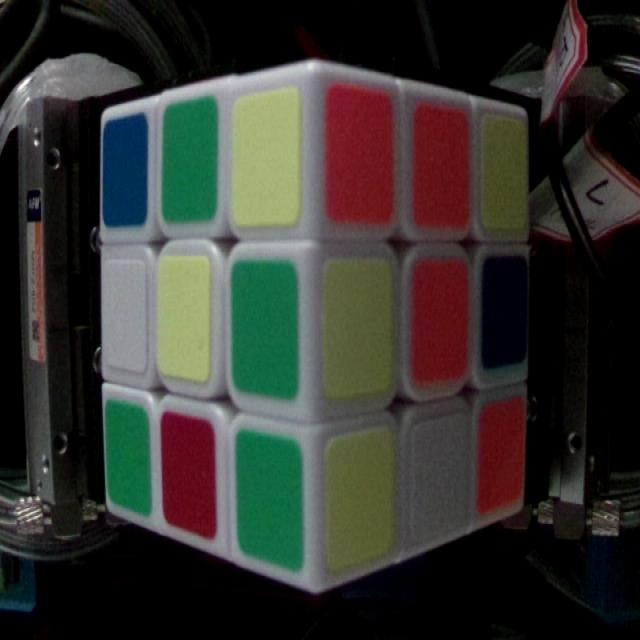b: (104, 120, 147, 226), (482, 257, 527, 358)
g: (232, 265, 300, 395), (238, 435, 302, 565), (163, 99, 216, 221), (106, 401, 152, 507)
o: (327, 86, 392, 221), (411, 104, 470, 225), (412, 261, 467, 384), (475, 399, 525, 506)
w: (409, 418, 465, 532), (102, 262, 147, 366)
y: (321, 257, 394, 391), (324, 430, 394, 562), (233, 92, 299, 220), (158, 257, 210, 376), (483, 120, 528, 228)
